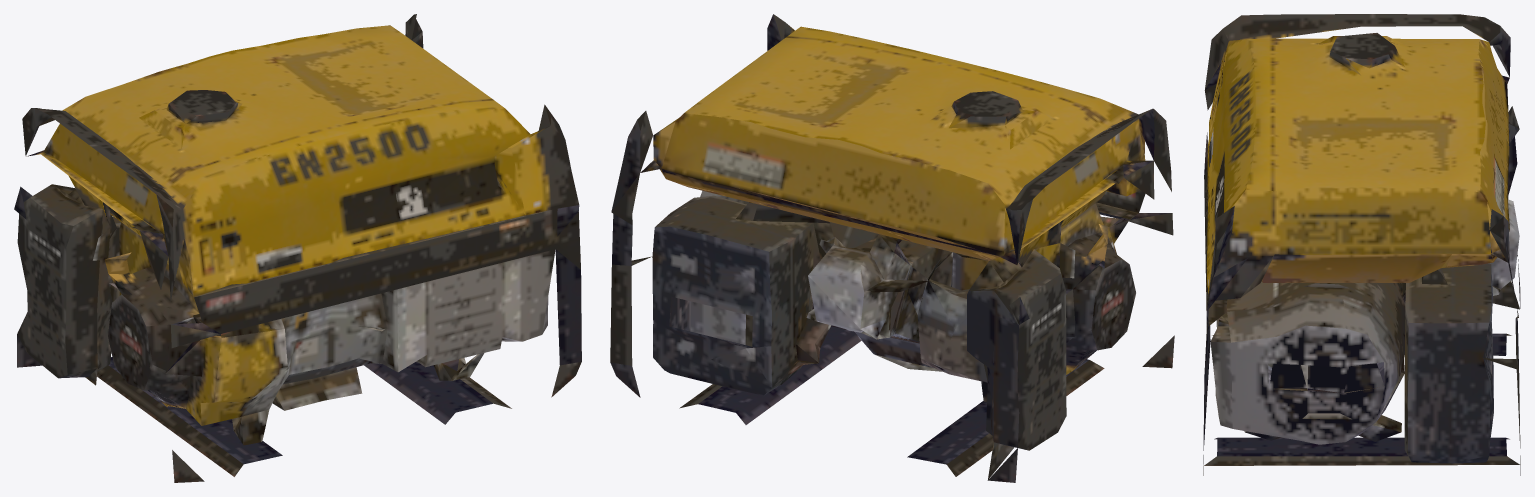
File: portable_generator.glb
3 renders of one model, left to right at view 1: azimuth 30°, elevation 25°; view 2: azimuth 150°, elevation 25°; view 3: azimuth 270°, elevation 25°, orthographic.
Visible parts, largest first — view 1: mesh; view 2: mesh; view 3: mesh.
Part boxes in pixels (x1,y1,x2,y2): mesh: (14,14,581,482); mesh: (610,14,1174,482); mesh: (1203,14,1520,475).
Size of the model in its own units: 0.8013 by 0.5769 by 0.5328.
Materials: 1 (1 with a texture image).
